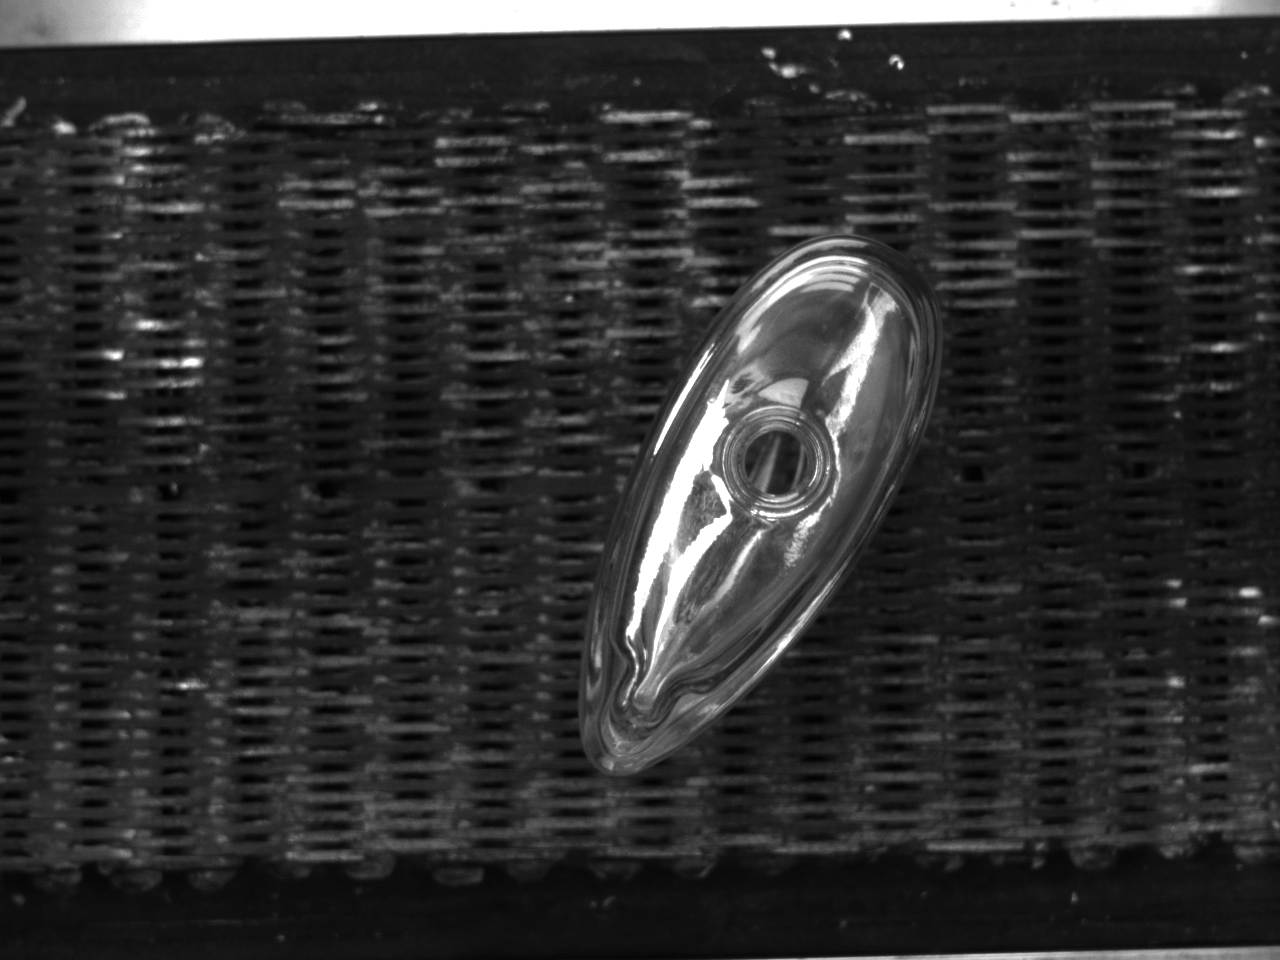bottleneck: (722, 407, 836, 518)
